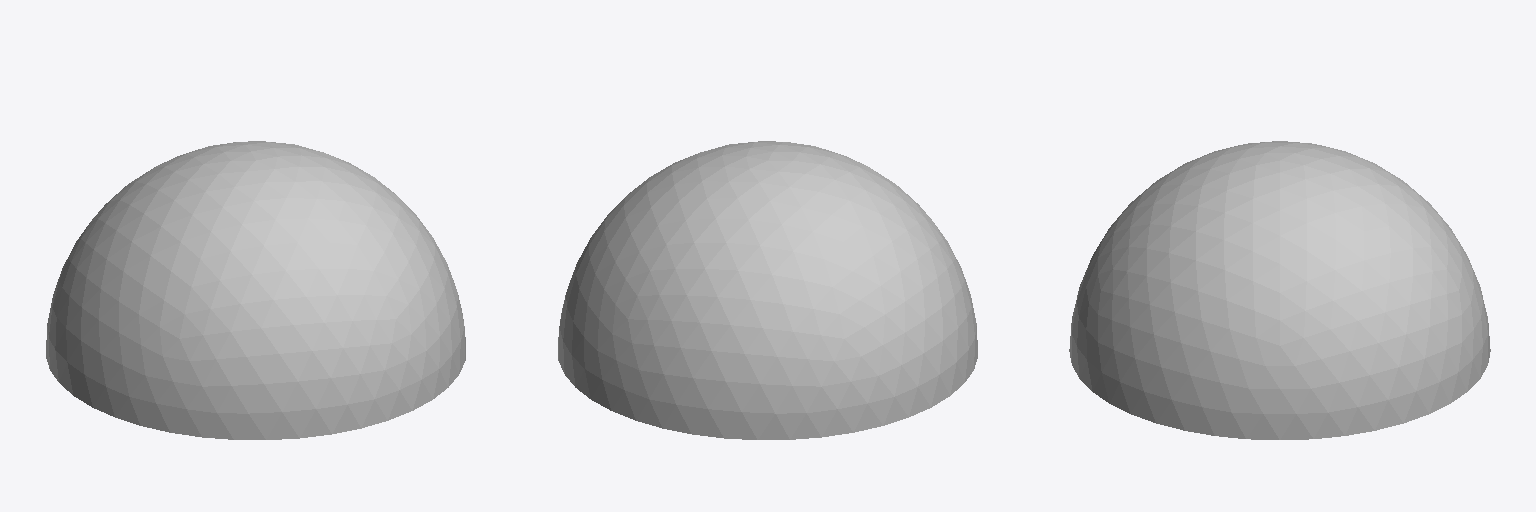
Rendered from dome.obj.
The picture shows the model from 3 angles: view 1: azimuth 30°, elevation 25°; view 2: azimuth 150°, elevation 25°; view 3: azimuth 270°, elevation 25°; orthographic projection.
Visible parts, largest first — view 1: Icosphere; view 2: Icosphere; view 3: Icosphere.
Boxes of the visible parts, box(x1,y1,x2,y2) form: Icosphere: box(46, 141, 465, 439); Icosphere: box(558, 141, 977, 439); Icosphere: box(1069, 141, 1490, 439).
Size of the model in its own units: 2 by 1 by 2.